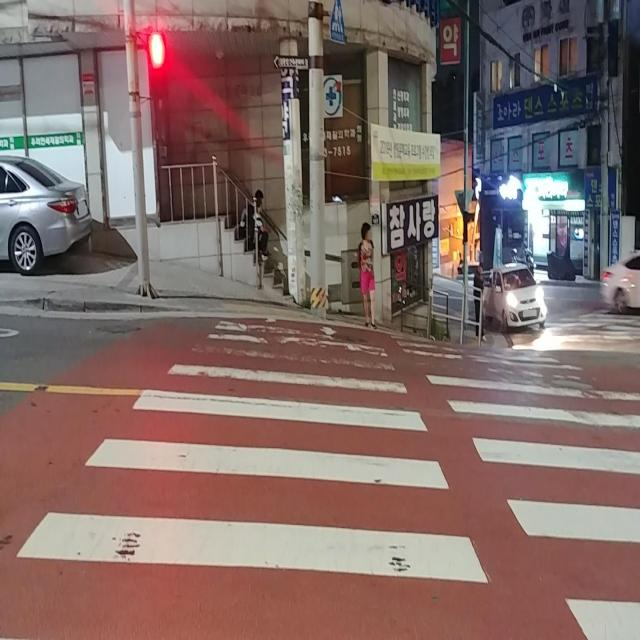빨간불: (144, 29, 170, 100)
횡단보도: (12, 317, 640, 640)
